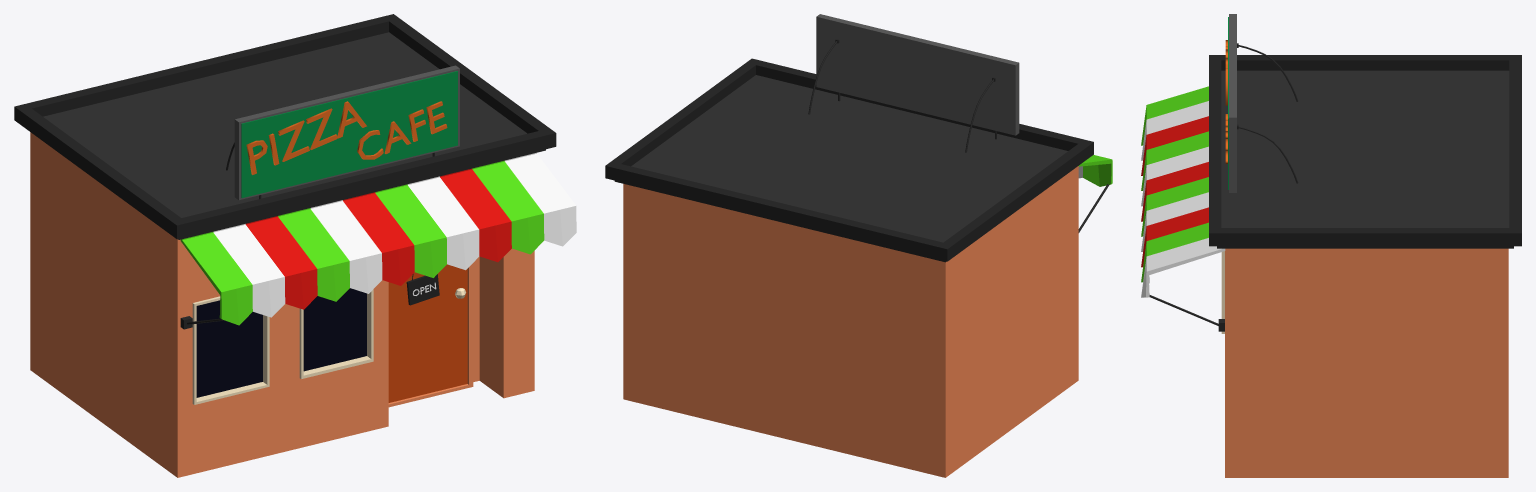
The model's file is Pizza Shop.fbx.
The picture shows the model from 3 angles, left to right: view 1: azimuth 30°, elevation 25°; view 2: azimuth 150°, elevation 25°; view 3: azimuth 270°, elevation 25°; orthographic projection. The views are drawn at different scales.
Parts seen in each view (by area): view 1: Plane.006; view 2: Plane.006; view 3: Plane.006.
Boxes of the visible parts, box(x1,y1,x2,y2) form: Plane.006: box(14, 14, 576, 477); Plane.006: box(605, 14, 1112, 477); Plane.006: box(1141, 14, 1521, 477).
Bounding box in the file's own units: 547 × 467 × 494.
